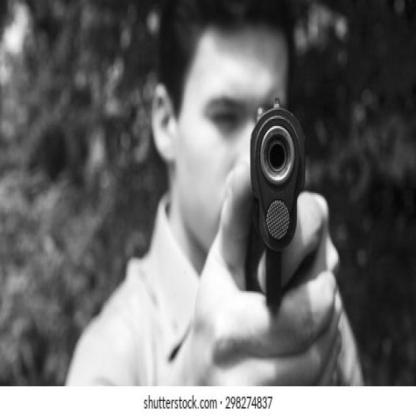handgun: (242, 96, 308, 340)
